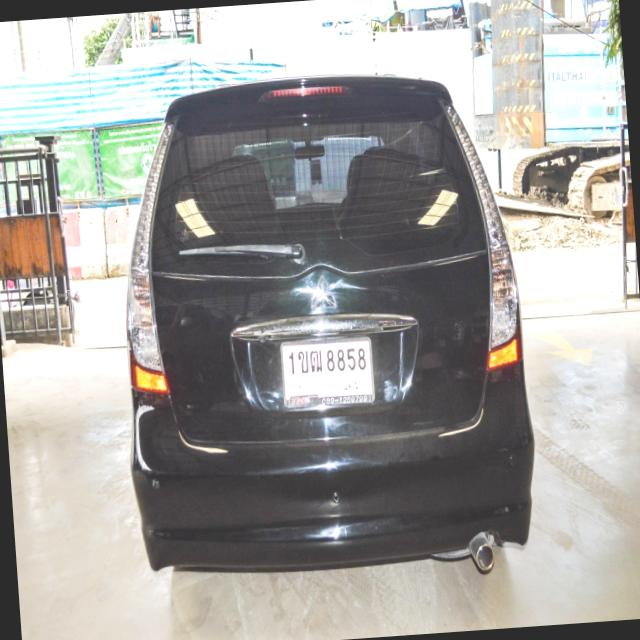license_plate: (278, 332, 377, 410)
